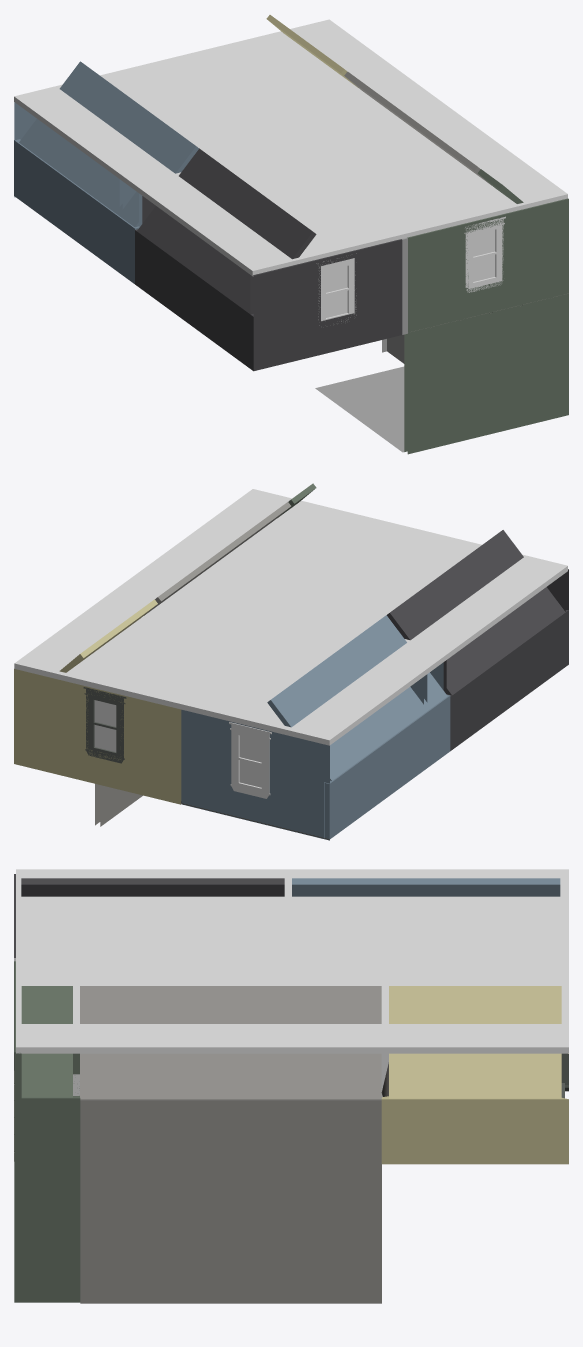
The model's file is UpstairsFinishedUntext.fbx.
3 views of the same model, one above another, from view 1: azimuth 30°, elevation 25°; view 2: azimuth 150°, elevation 25°; view 3: azimuth 270°, elevation 25° (orthographic). The views are drawn at different scales.
Visible parts, largest first — view 1: polySurface94; view 2: polySurface94; view 3: polySurface94.
Boxes of the visible parts, x1,y1,x2,y2 form: polySurface94: (14, 15, 568, 454); polySurface94: (14, 483, 568, 840); polySurface94: (14, 869, 568, 1303).
Bounding box in the file's own units: 27.47 × 22.58 × 36.11.
